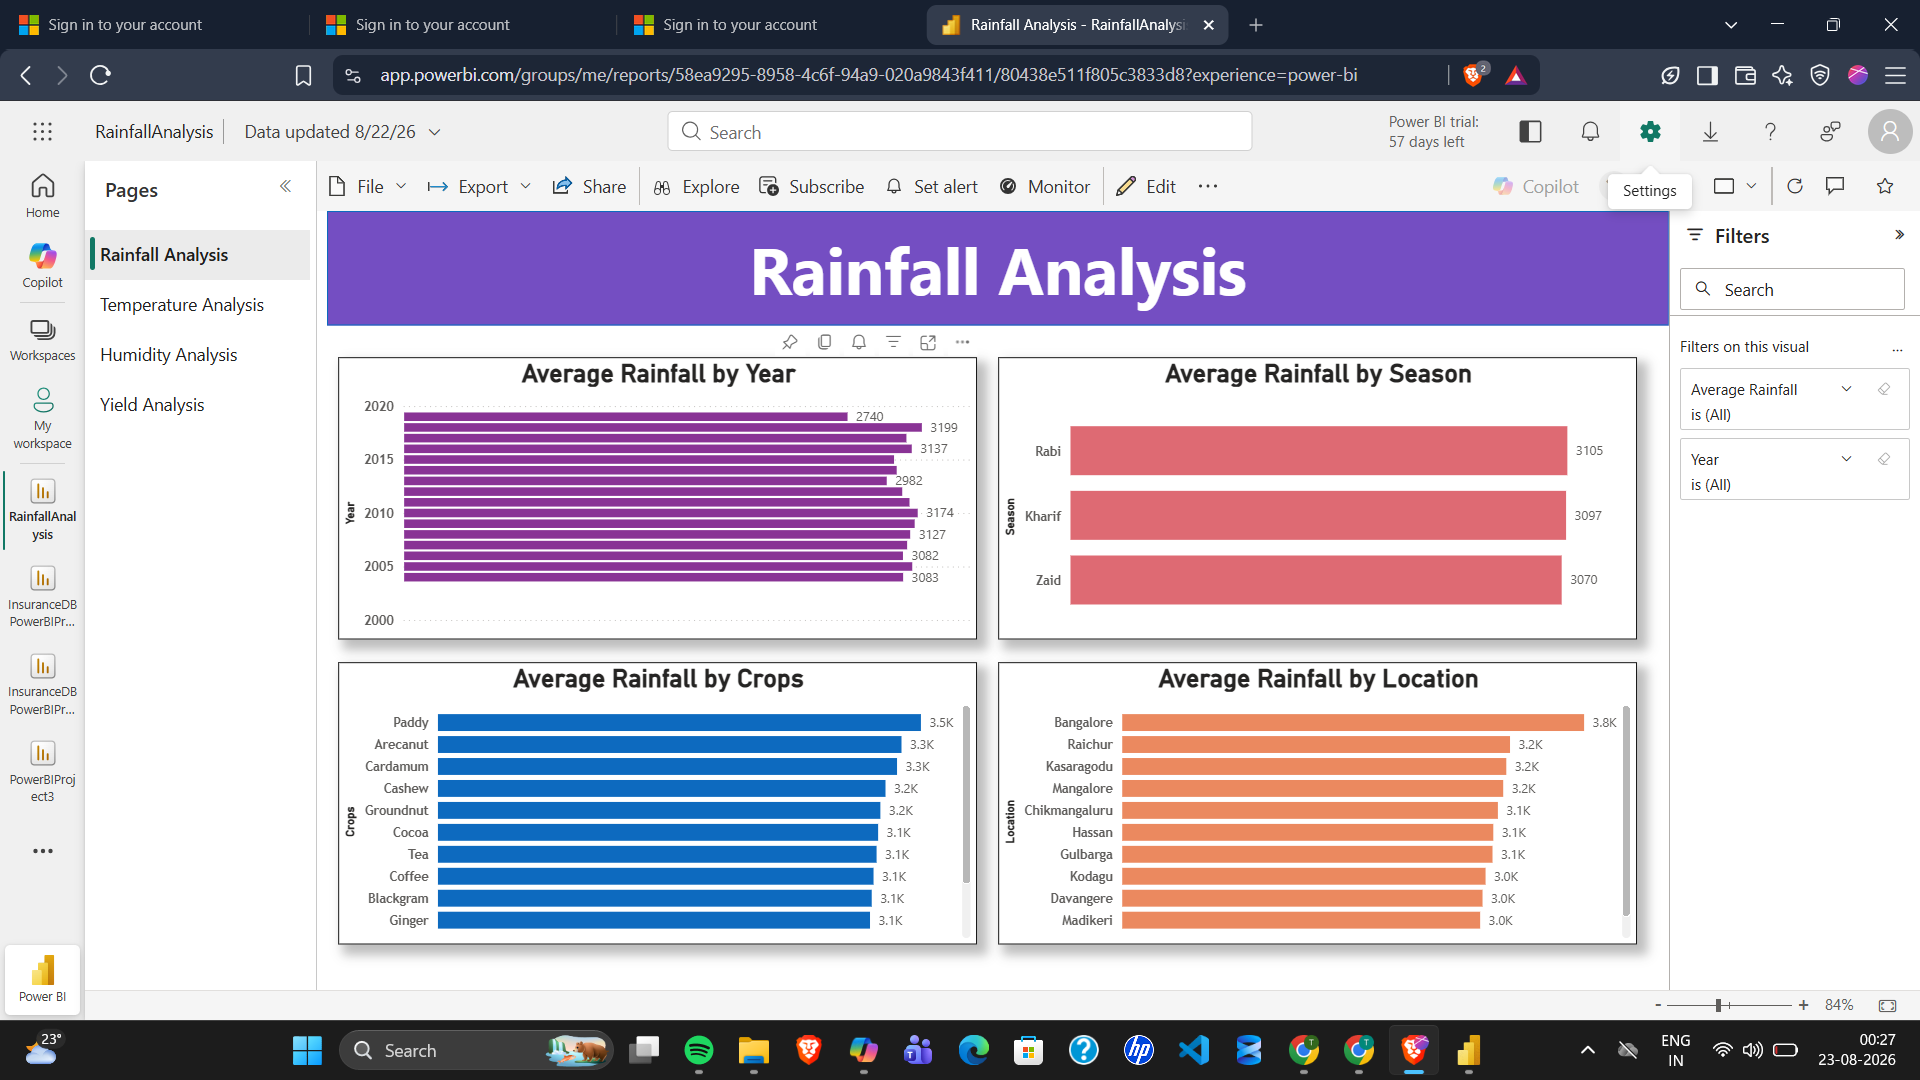

Layout of this report page (visuals, bound fields, positions):
{"tool":"powerbi","page":{"name":"Rainfall Analysis","canvas":[1280,720],"ordinal":0},"visuals":[{"type":"shape","box":[9.6,0,1270.7,108.4],"z":0},{"type":"barChart","fields":{"Y":["Avg(AGRICULTURE.RAINFALL)"],"Category":["AGRICULTURE.YEAR"]},"box":[20.6,138.6,605.1,267.6],"z":1000},{"type":"barChart","fields":{"Category":["AGRICULTURE.SEASON"],"Y":["Avg(AGRICULTURE.RAINFALL)"]},"box":[644.9,138.6,605.1,267.6],"z":2000},{"type":"barChart","fields":{"Y":["Avg(AGRICULTURE.RAINFALL)"],"Category":["AGRICULTURE.CROPS"]},"box":[20.6,426.8,605.1,267.6],"z":3000},{"type":"barChart","fields":{"Y":["Avg(AGRICULTURE.RAINFALL)"],"Category":["AGRICULTURE.LOCATION"]},"box":[644.9,426.8,605.1,267.6],"z":4000}]}

Visuals, with their boxes on the page's 1280x720 design canvas (x1, y1, x2, y2). These are canvas units, not pixel positions in the 1920x1080 screenshot, which may show the page scaled, cropped or inside an application window:
shape: crop(10, 0, 1280, 108)
barChart - Avg(AGRICULTURE.RAINFALL) x AGRICULTURE.YEAR: crop(21, 139, 626, 406)
barChart - AGRICULTURE.SEASON x Avg(AGRICULTURE.RAINFALL): crop(645, 139, 1250, 406)
barChart - Avg(AGRICULTURE.RAINFALL) x AGRICULTURE.CROPS: crop(21, 427, 626, 694)
barChart - Avg(AGRICULTURE.RAINFALL) x AGRICULTURE.LOCATION: crop(645, 427, 1250, 694)
